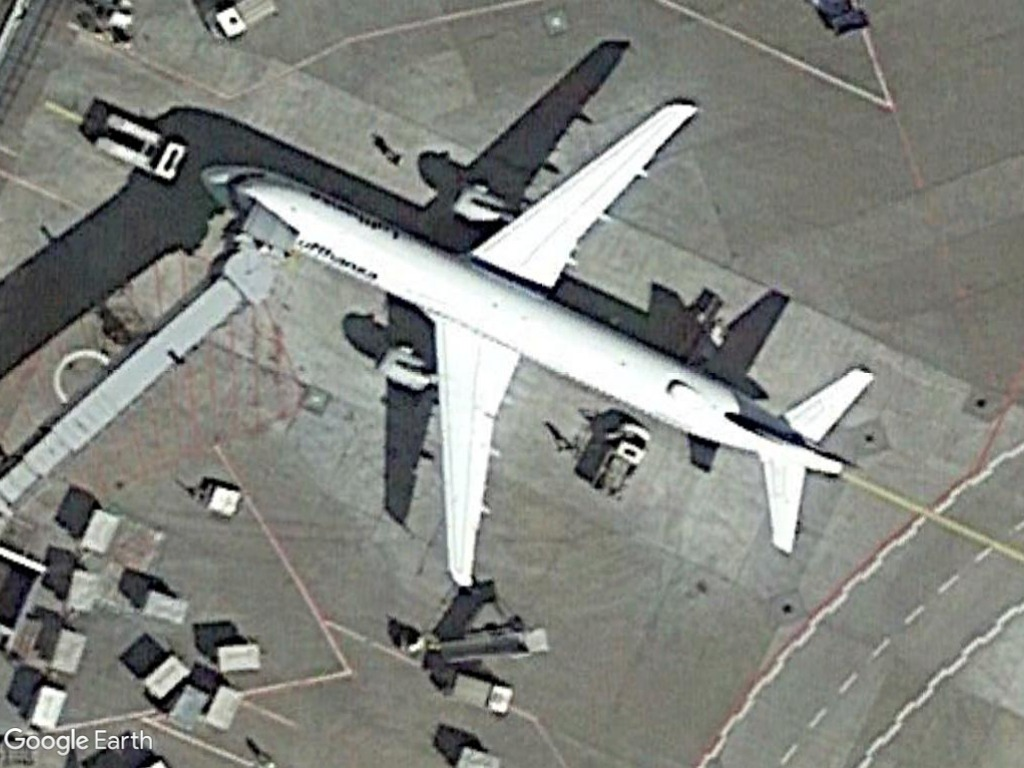airliner: (196, 92, 874, 595)
pushbacktruck: (90, 106, 189, 186)
stairtruck: (430, 624, 556, 668)
